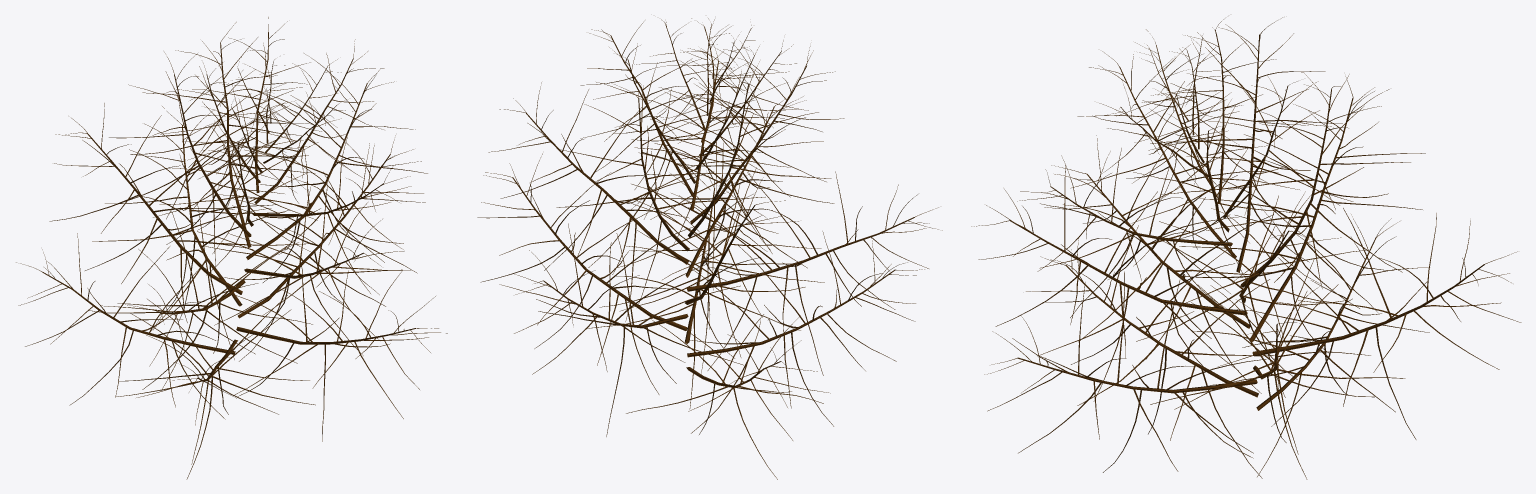
File: Ciervo_arbustoramas.obj
The picture shows the model from 3 angles, left to right: view 1: azimuth 30°, elevation 25°; view 2: azimuth 150°, elevation 25°; view 3: azimuth 270°, elevation 25°; orthographic projection. The views are drawn at different scales.
Visible parts, largest first — view 1: Foliage002; view 2: Foliage002; view 3: Foliage002.
Part boxes in pixels (box(x1,y1,x2,y2)): Foliage002: box(16, 17, 447, 479); Foliage002: box(477, 18, 942, 479); Foliage002: box(971, 17, 1521, 479).
Bounding box in the file's own units: 12.16 × 12.11 × 13.4.
